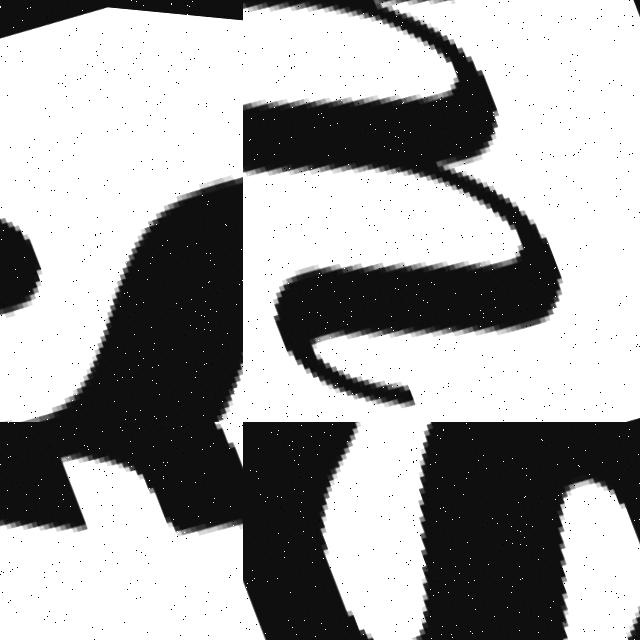F: (0, 422, 243, 640)
M: (243, 0, 607, 422)
S: (0, 33, 243, 422), (243, 422, 640, 640)
